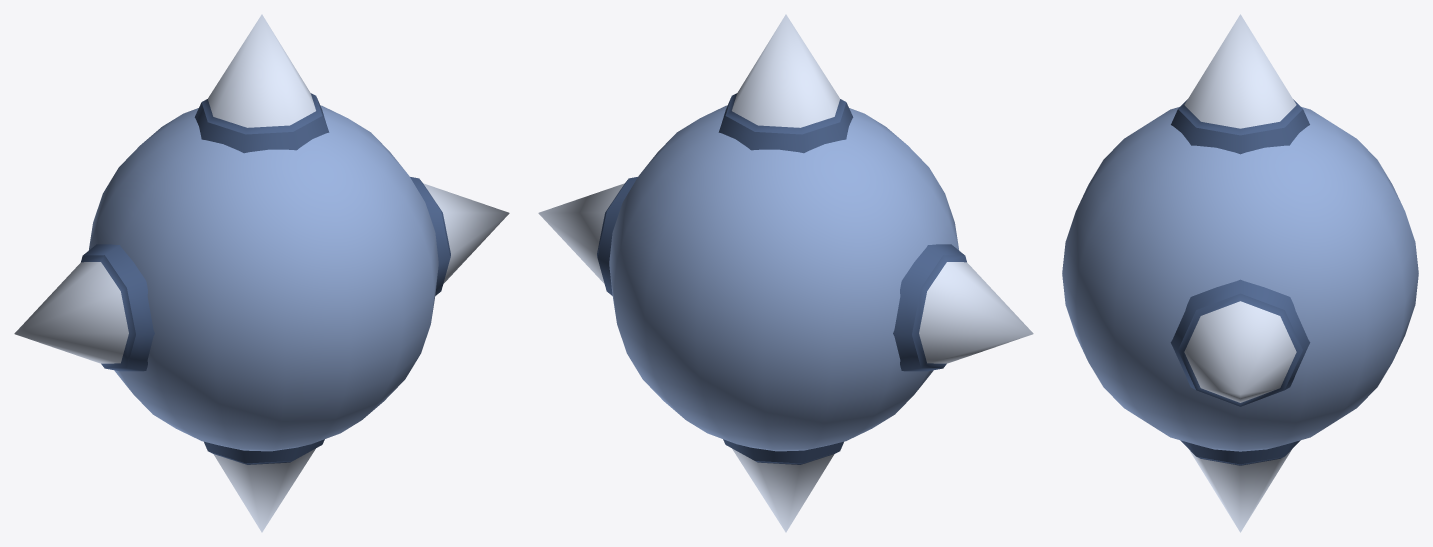
The model's file is PowerUP_Spike.fbx.
3 renders of one model, left to right at view 1: azimuth 30°, elevation 25°; view 2: azimuth 150°, elevation 25°; view 3: azimuth 270°, elevation 25°, orthographic.
Parts seen in each view (by area): view 1: polySurface8; view 2: polySurface8; view 3: polySurface8.
Part boxes in pixels (x1=…): polySurface8: x1=14, y1=14, x2=509, y2=532; polySurface8: x1=538, y1=14, x2=1033, y2=532; polySurface8: x1=1062, y1=14, x2=1418, y2=532.
Bounding box in the file's own units: 64.21 × 64.21 × 40.
Materials: 1 (1 with a texture image).
